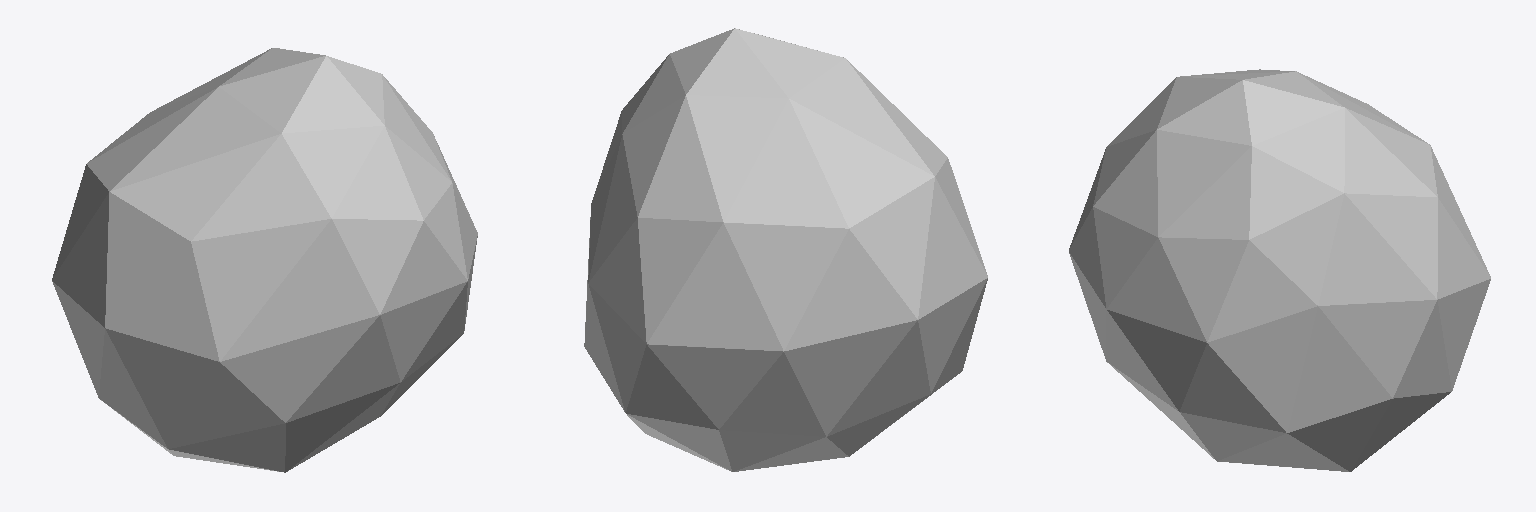
The model's file is boulder.obj.
3 renders of one model, left to right at view 1: azimuth 30°, elevation 25°; view 2: azimuth 150°, elevation 25°; view 3: azimuth 270°, elevation 25°, orthographic.
Parts seen in each view (by area): view 1: Icosphere_Icosphere.001; view 2: Icosphere_Icosphere.001; view 3: Icosphere_Icosphere.001.
Boxes of the visible parts, x1=… form: Icosphere_Icosphere.001: x1=52, y1=48, x2=477, y2=472; Icosphere_Icosphere.001: x1=584, y1=28, x2=987, y2=471; Icosphere_Icosphere.001: x1=1069, y1=69, x2=1490, y2=471.
Bounding box in the file's own units: 2 × 2.07 × 1.97.